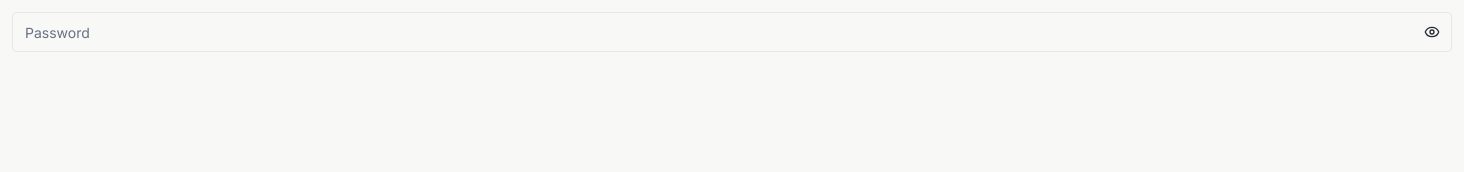
Test: PasswordInput › toggle shows and hides the password and updates icon/aria
# Click to show
What coordinates should you click on to do the following:
click the button named "Show"
I would click on:
 (1432, 32)
Its box is top-left (1416, 14), bottom-right (1448, 50).
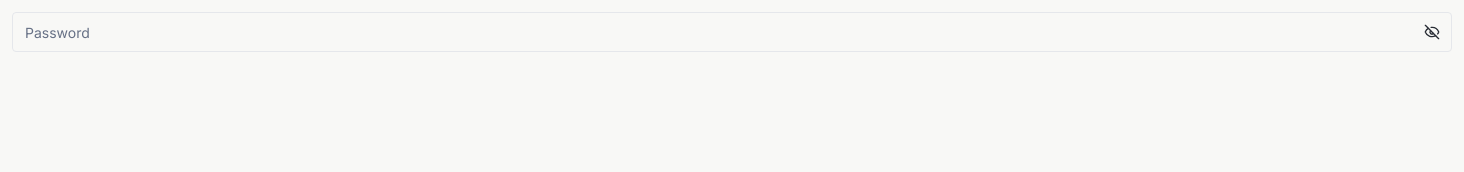
Now the icon with test id "icon-eye-off" is shown, box top-left (1424, 24), bottom-right (1440, 40)
# Click to hide
What coordinates should you click on to do the following:
click the button named "Show"
I would click on:
 (1432, 32)
Its box is top-left (1416, 14), bottom-right (1448, 50).
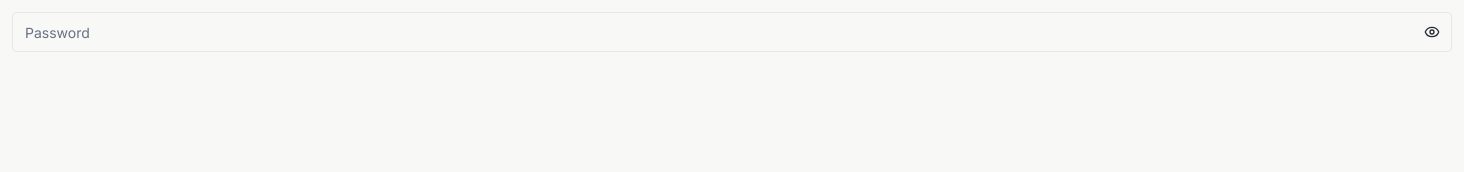
Now the icon with test id "icon-eye" is shown, box top-left (1424, 24), bottom-right (1440, 40)
